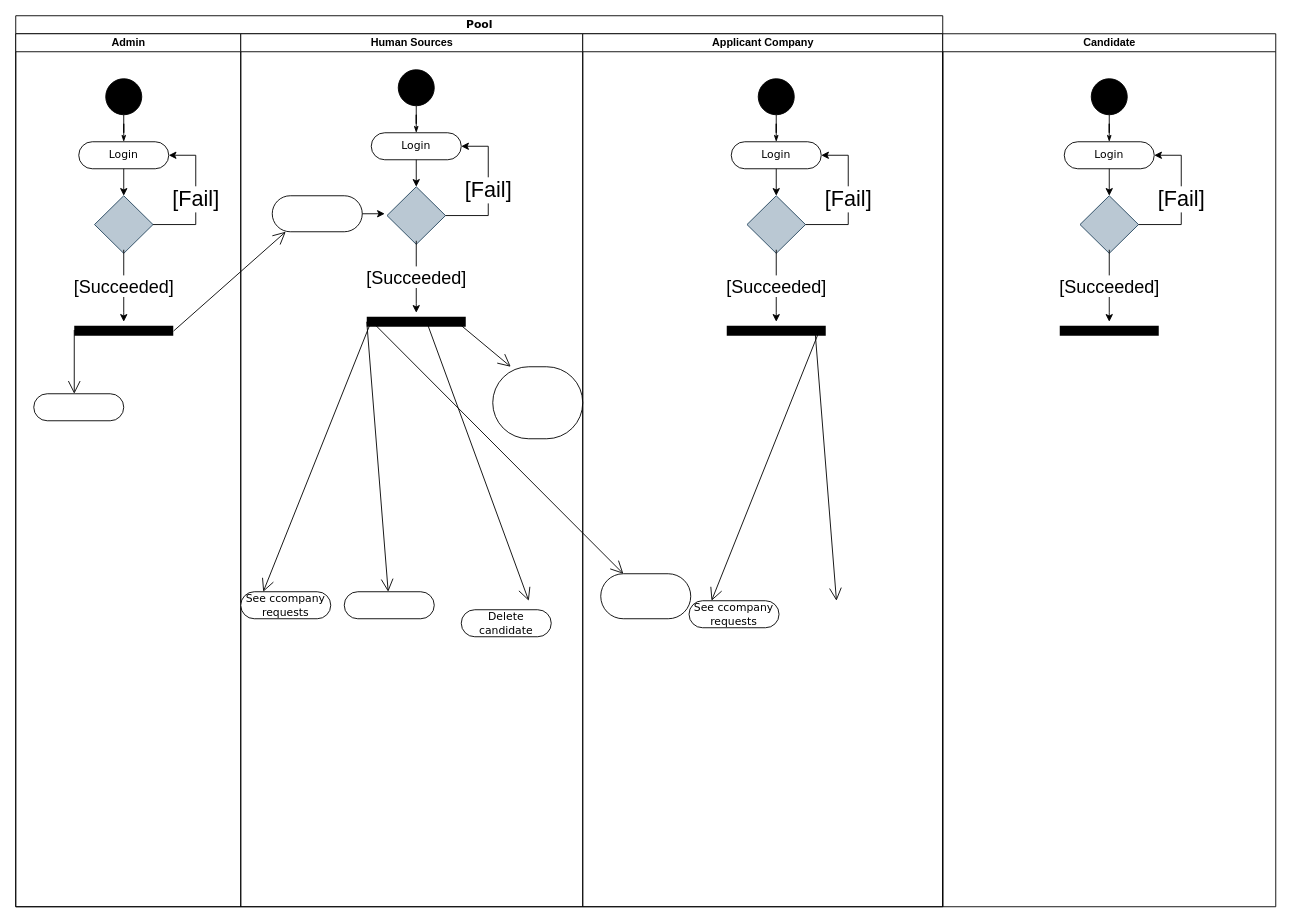
Image size: 1292x923. Some labels were removed from this diagram. The centre of each missing label's shape, as x and y in pixels:
Add/Remove Human Sources: [316,213]
Arrange meeting between candidate and company: [537,402]
Give offer to candidate: [388,605]
See statics: [78,407]
Suggest Candidate to Company: [645,596]
